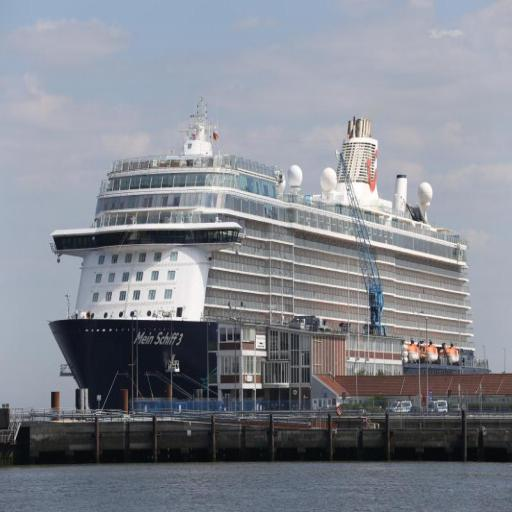cruises: (45, 94, 486, 425)
